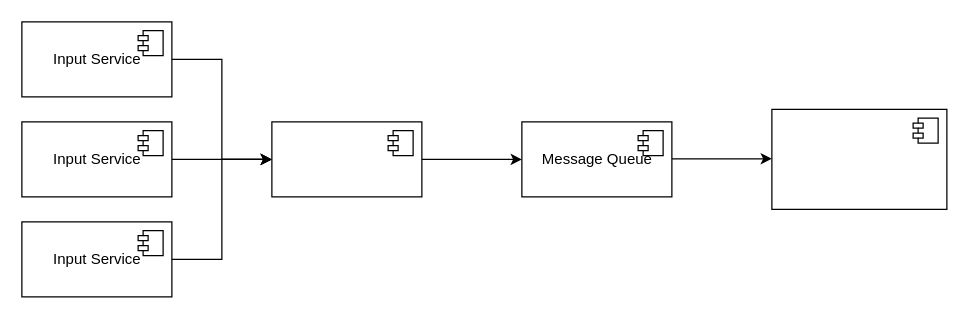
This 969x319 diagram has some shape labels left out. Each missing label, with the centre of its shape:
Central Processor: [859,158]
Exchange: [346,159]
